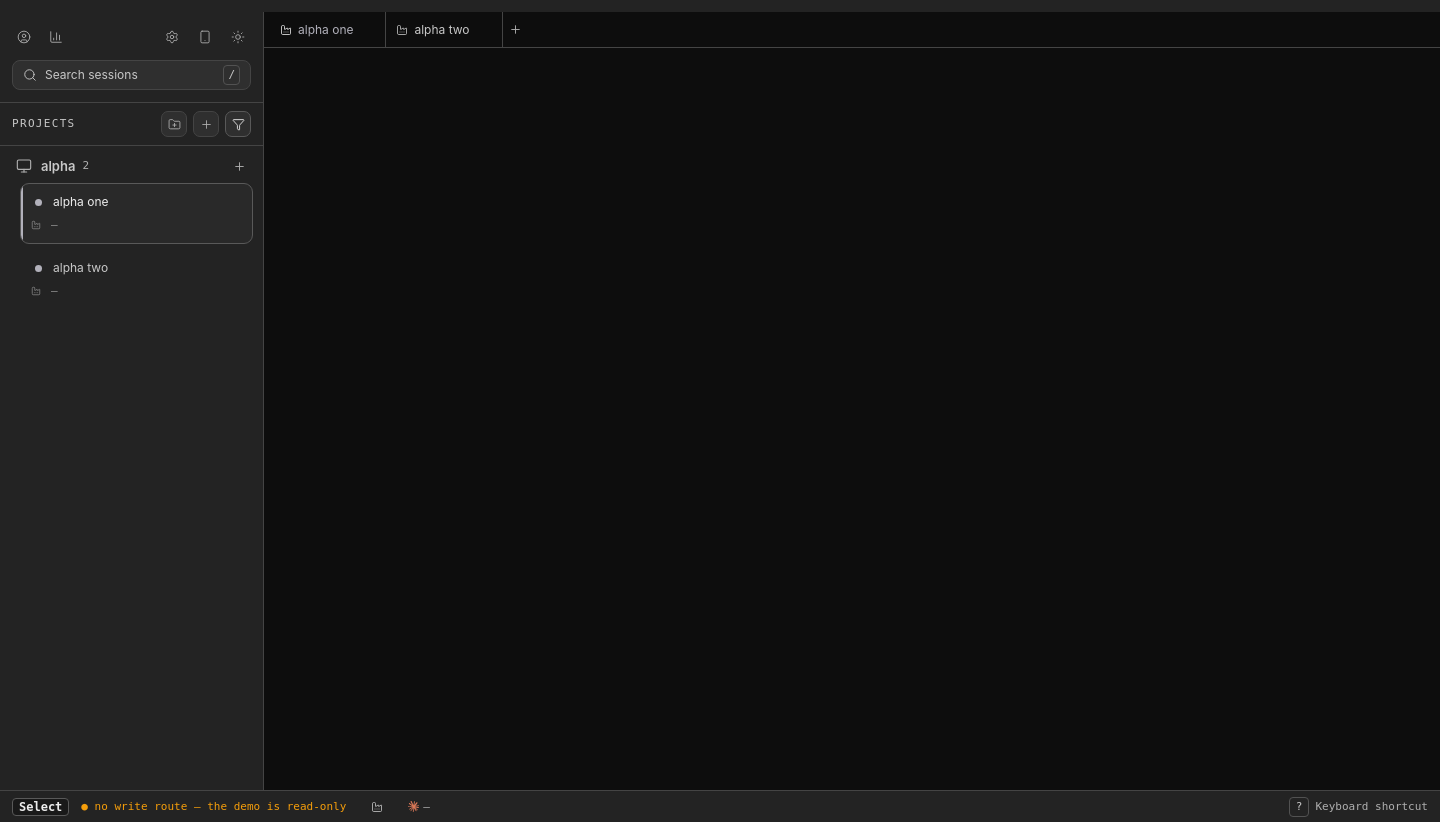
Scenario: the tab menu › renames the tab that was right-clicked, not the focused session
Press j
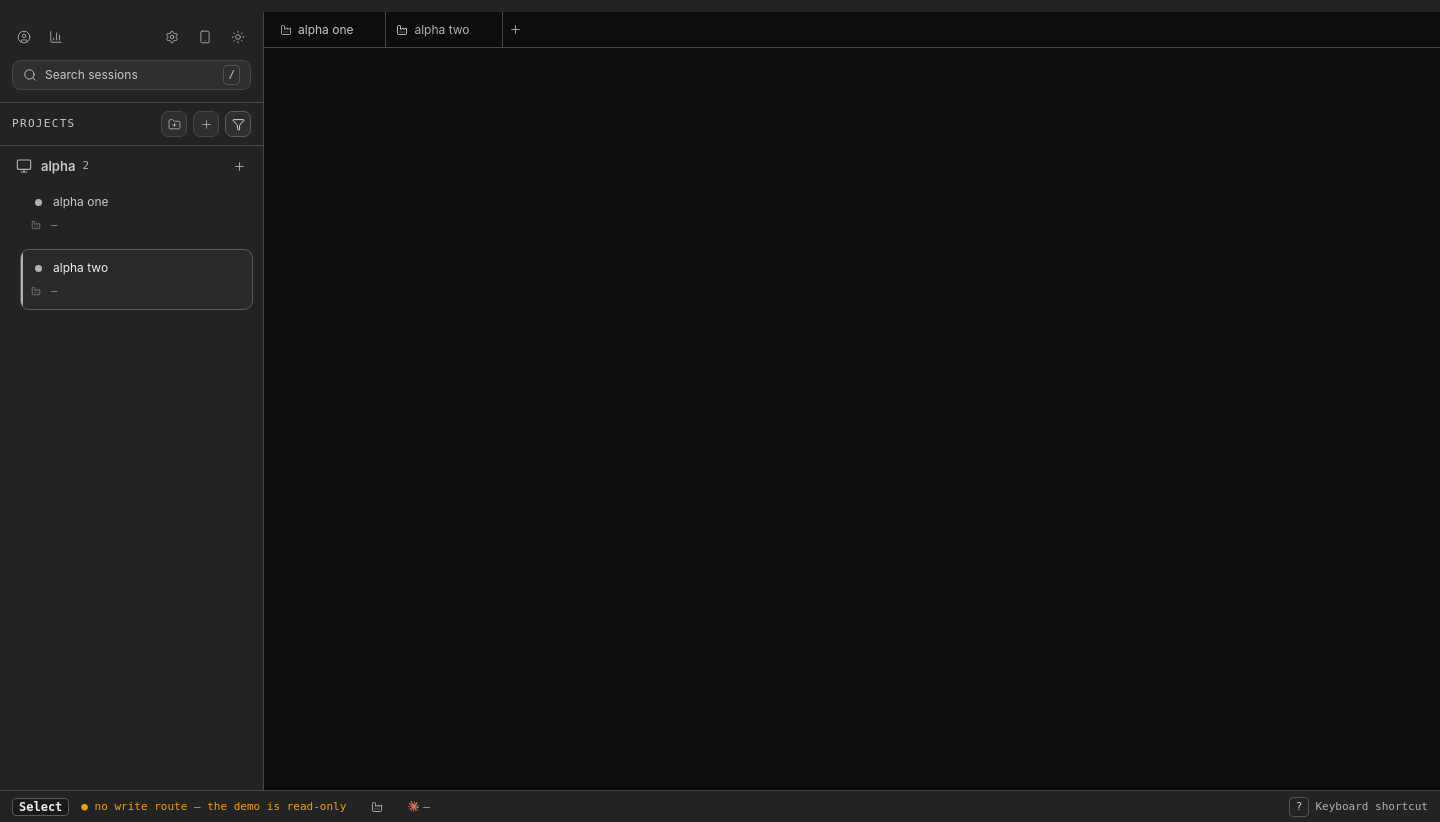
Right-click the button "alpha one" at coordinates (326, 30), box [298,18,354,42]
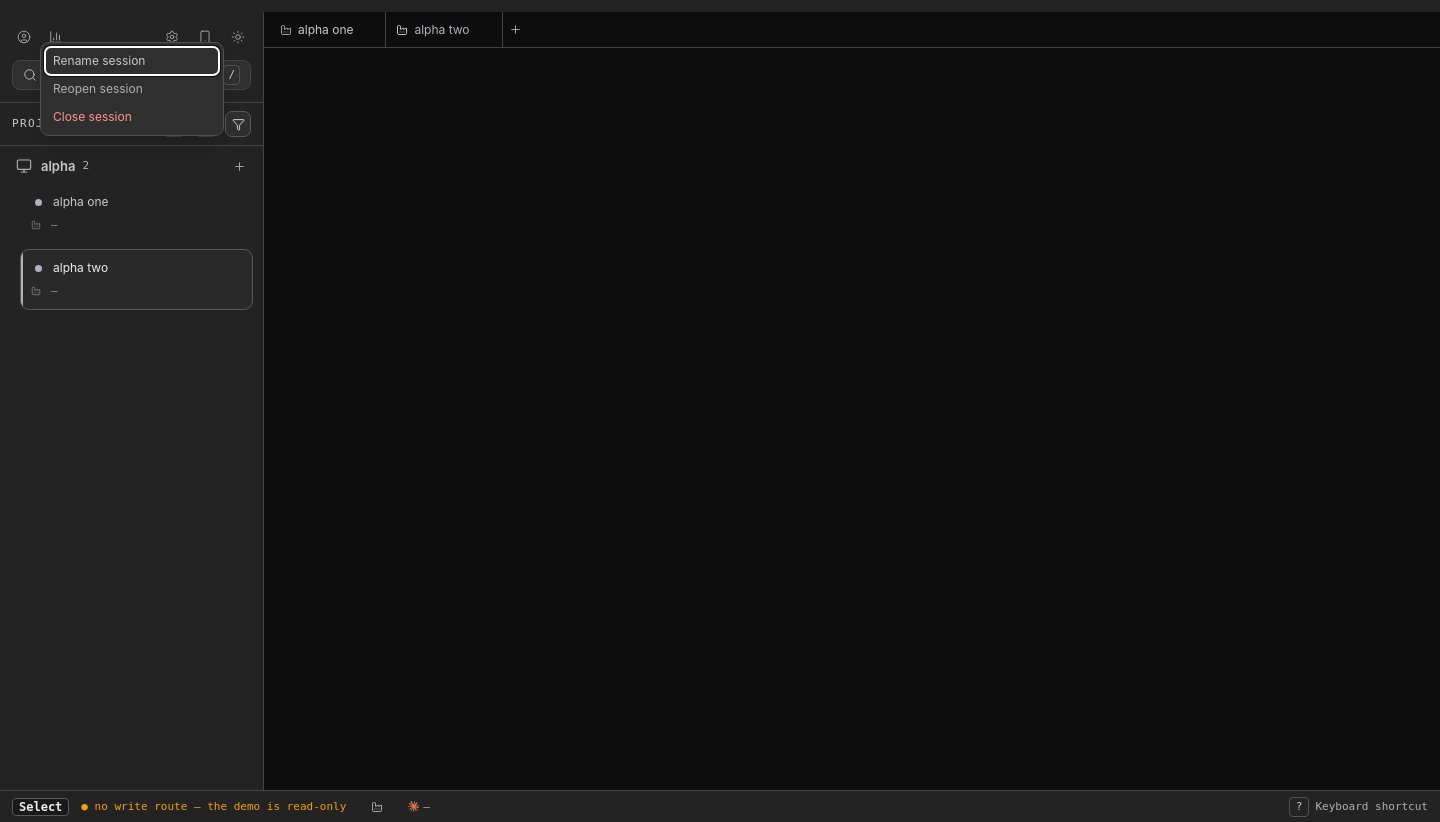
Click the menu item "Rename session". click: coordinates (132, 61)
box: [45,47,219,75]
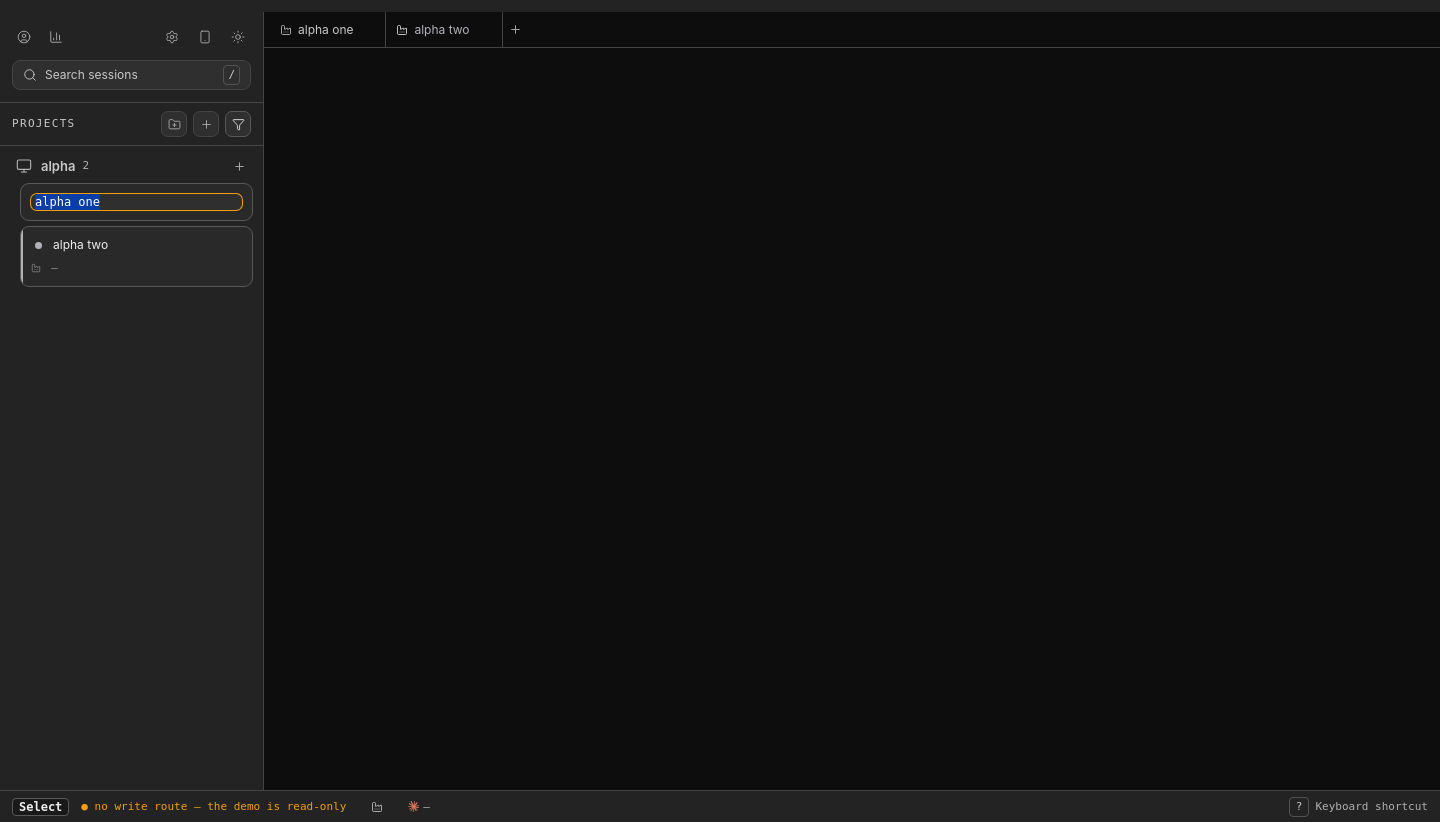
Now the field named "rename session" holds "alpha one", box [31,194,242,210]
